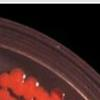red: (9, 66, 26, 83), (10, 80, 26, 98), (23, 73, 40, 89), (36, 84, 51, 100), (50, 85, 66, 100), (0, 71, 11, 90), (22, 87, 36, 100), (0, 88, 11, 100), (8, 94, 18, 100)
